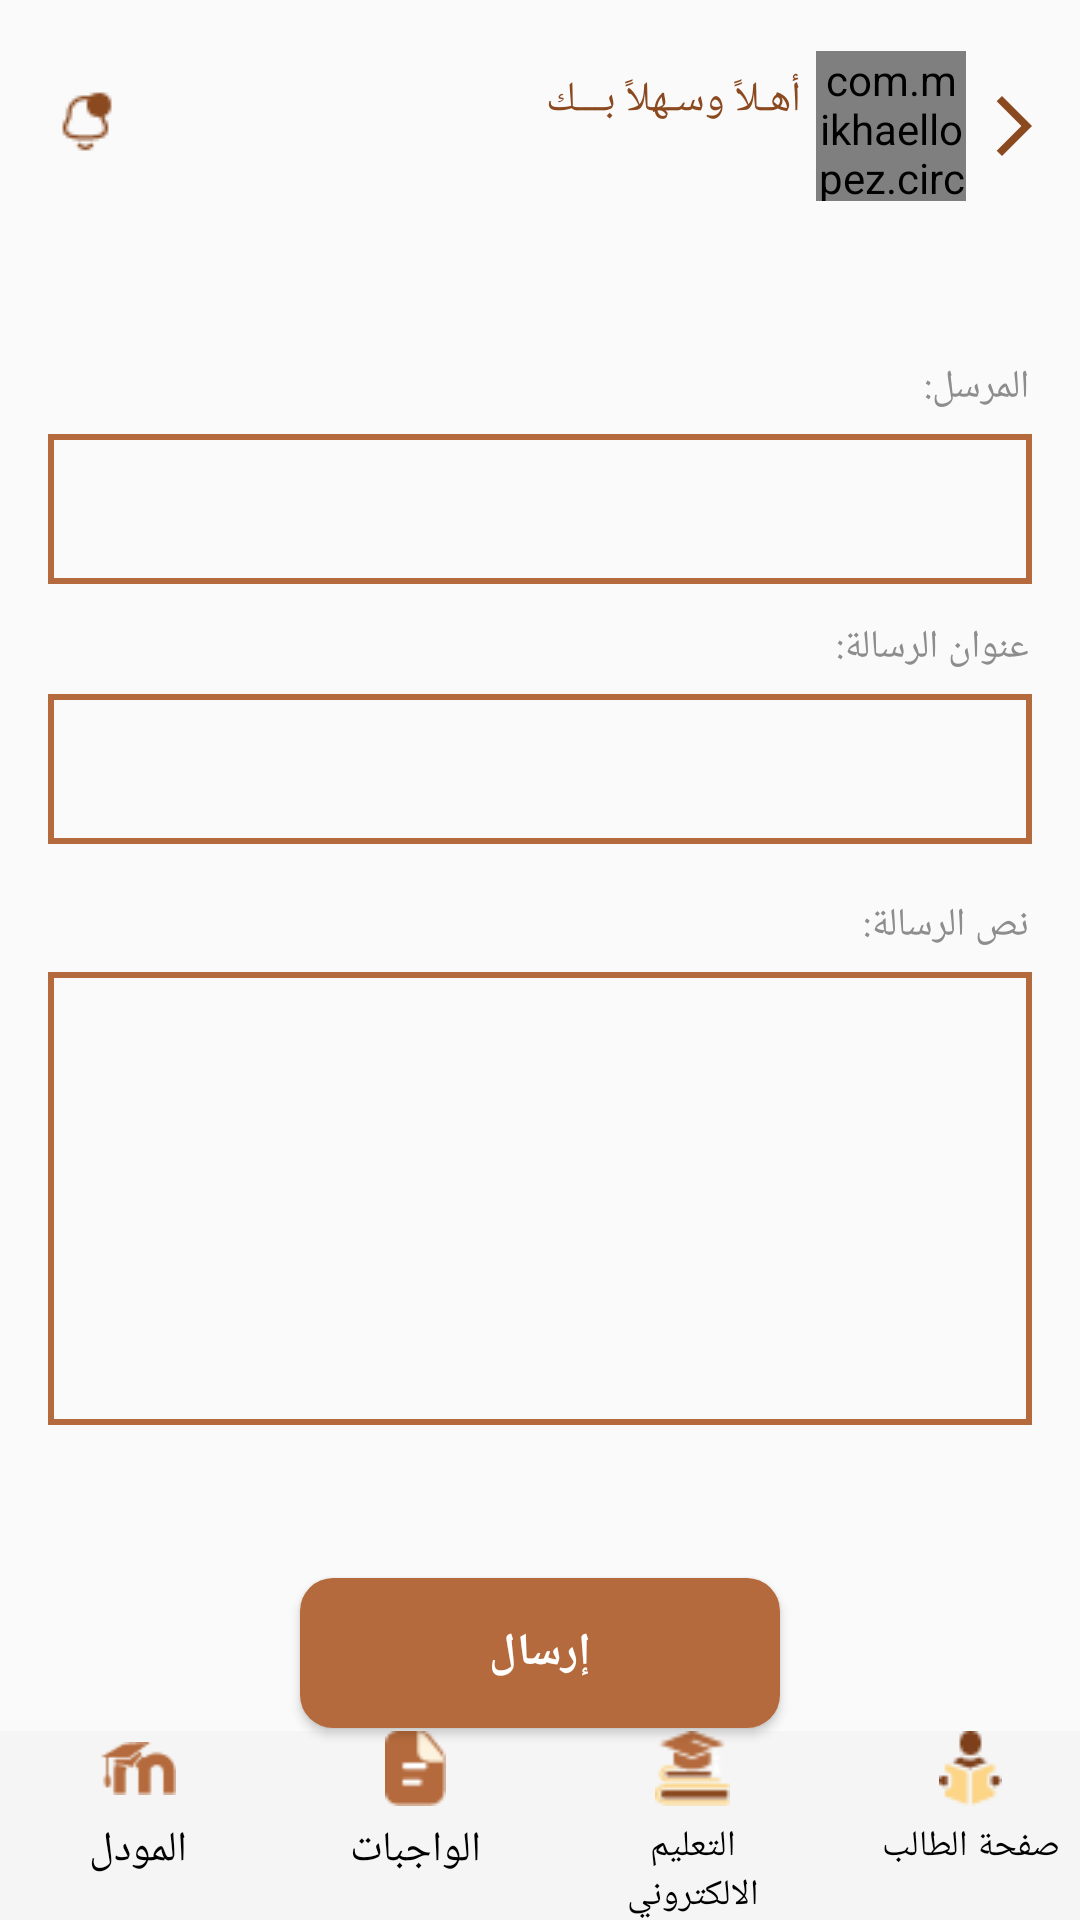

Screen size 1080w x 1920h. Icon name, then its box in pixels as detection(x1, y1, x2, y2):
arrow forward: detection(997, 96, 1032, 156)
notifaction: detection(62, 92, 112, 151)
